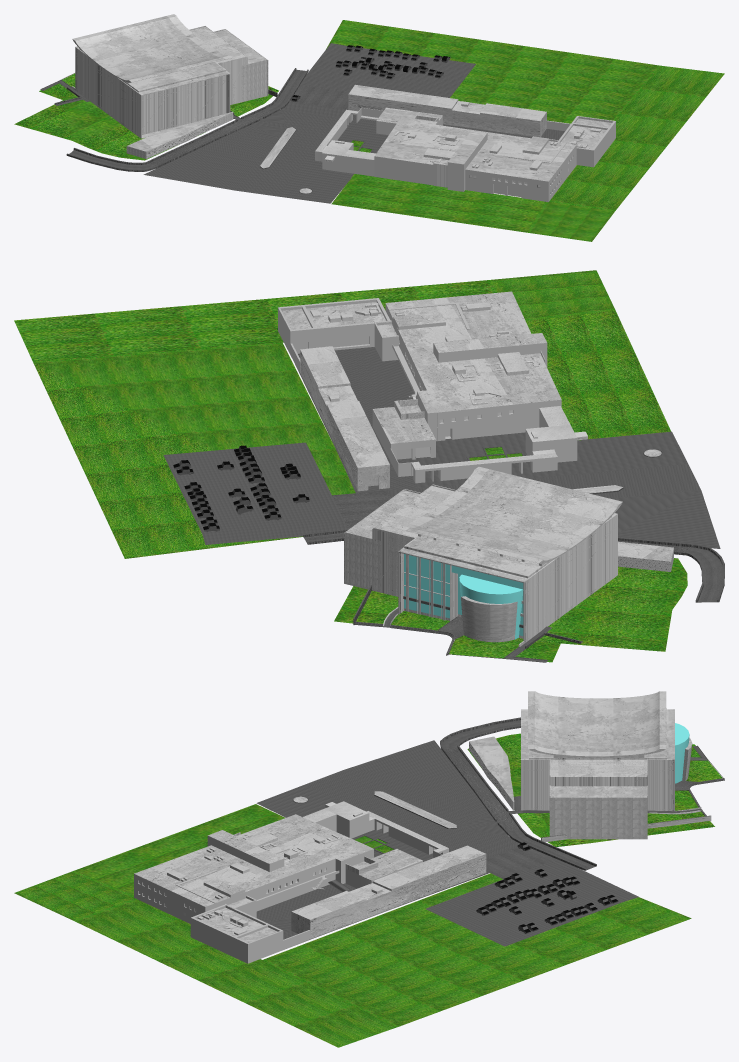
File: TecText.obj
The picture shows the model from 3 angles, top to bottom: view 1: azimuth 30°, elevation 25°; view 2: azimuth 150°, elevation 25°; view 3: azimuth 270°, elevation 25°; orthographic projection. The views are drawn at different scales.
Visible parts, largest first — view 1: top1; view 2: top1; view 3: top1.
Part boxes in pixels (x1,y1,x2,y2): top1: (14,14,724,241); top1: (14,270,724,662); top1: (14,691,724,1047).
Bounding box in the file's own units: 13657 × 1288 × 12332.
